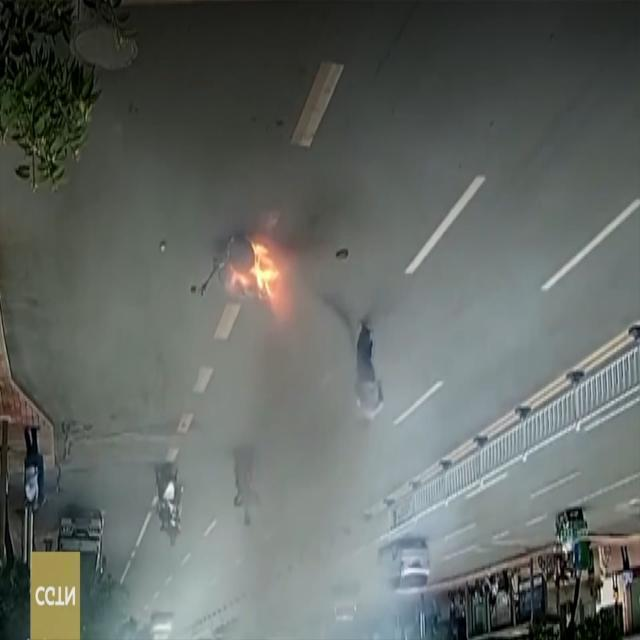fire: (220, 234, 300, 322)
